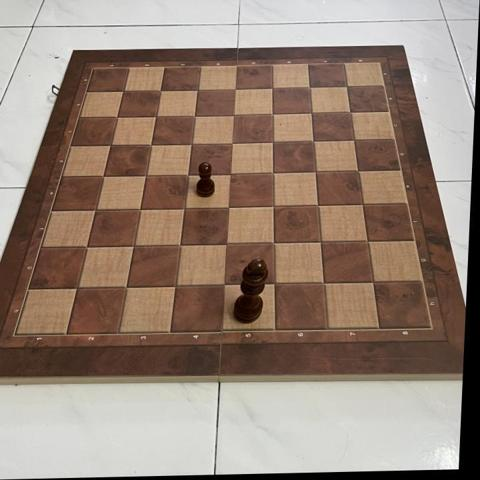xcorner: (123, 236, 141, 254), (263, 274, 281, 292), (337, 77, 355, 94), (187, 81, 205, 98), (301, 104, 319, 121), (262, 105, 280, 122), (223, 106, 241, 123), (184, 107, 202, 124), (107, 108, 124, 126), (344, 131, 362, 148), (303, 132, 321, 149), (262, 133, 280, 150), (100, 137, 118, 154), (305, 163, 323, 180), (263, 163, 280, 181), (220, 164, 237, 182), (178, 165, 195, 183), (135, 166, 153, 183), (93, 167, 111, 184), (352, 195, 370, 212), (218, 198, 236, 215), (216, 235, 234, 252), (77, 237, 94, 255), (362, 273, 380, 290), (214, 275, 231, 293), (116, 277, 134, 294), (300, 78, 317, 95), (262, 79, 279, 96), (225, 80, 242, 97), (150, 82, 167, 99), (113, 83, 130, 100), (341, 103, 358, 120), (146, 108, 163, 125), (222, 134, 239, 151), (181, 135, 198, 152), (141, 136, 158, 153), (348, 162, 365, 179), (308, 196, 325, 213), (263, 197, 280, 214), (174, 199, 191, 216), (130, 200, 147, 217), (86, 201, 103, 218), (357, 232, 374, 249), (310, 233, 327, 250), (263, 234, 280, 251), (170, 236, 187, 253), (313, 274, 330, 291), (165, 276, 182, 293), (68, 278, 85, 295)
